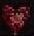lifeC: (0, 1, 34, 36)
